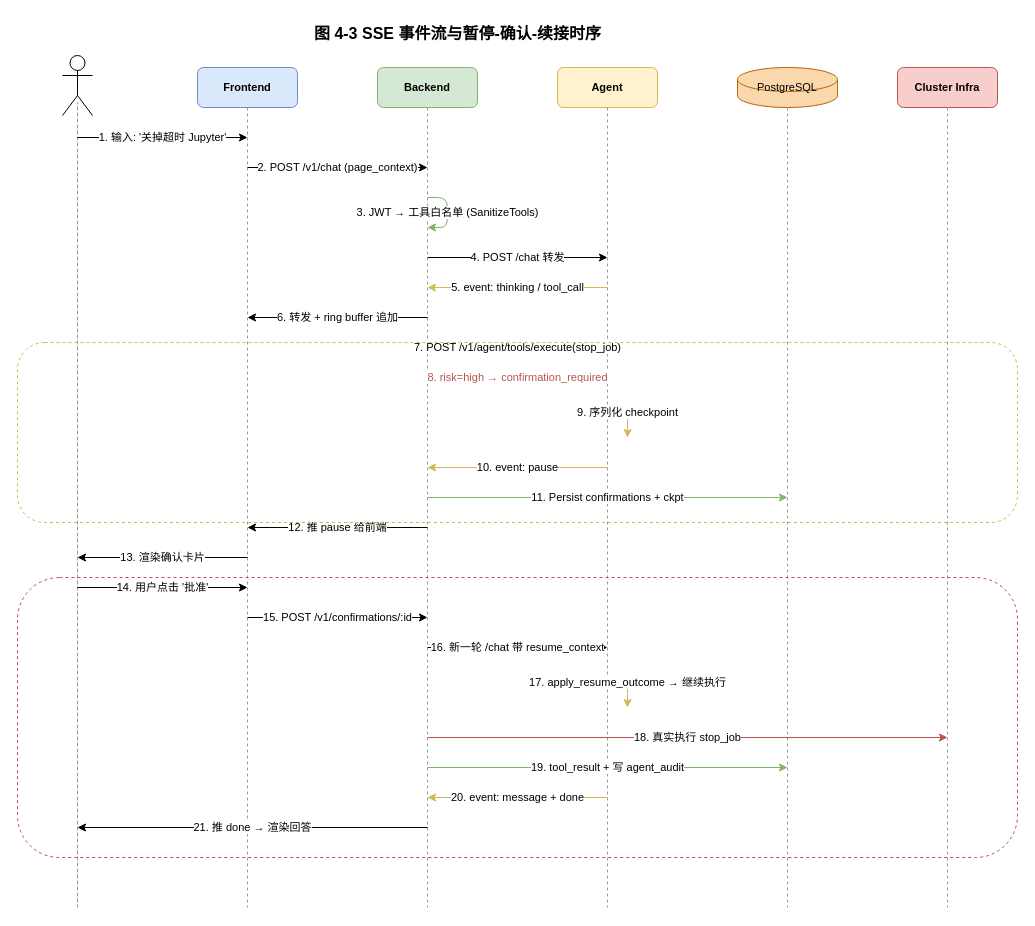
This 1035x926 diagram has some shape labels left out. The shapes that lost their labels are listed below. From the top down, each one's centre as x and y in pixels, then its label:
(x=77, y=85): Actor
(x=517, y=432): ① 暂停
(x=517, y=717): ② 续接
